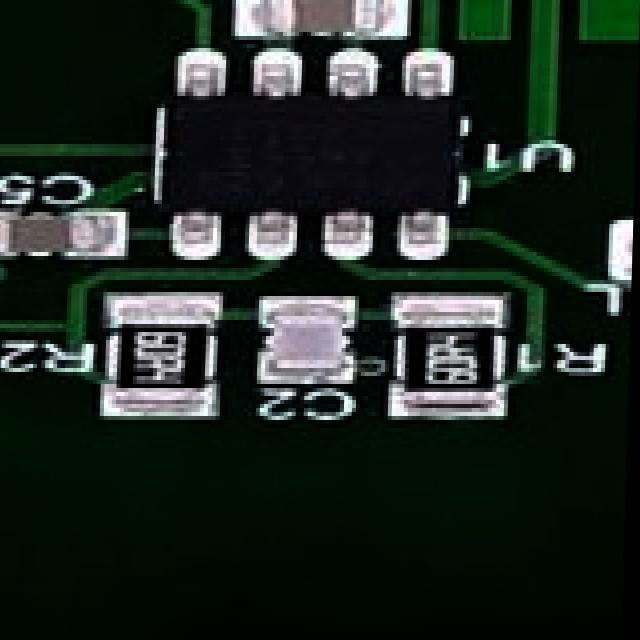IC: (164, 60, 467, 248)
capacitor: (241, 294, 349, 380), (0, 212, 111, 256)
resistor: (108, 312, 217, 416), (393, 310, 517, 400)
